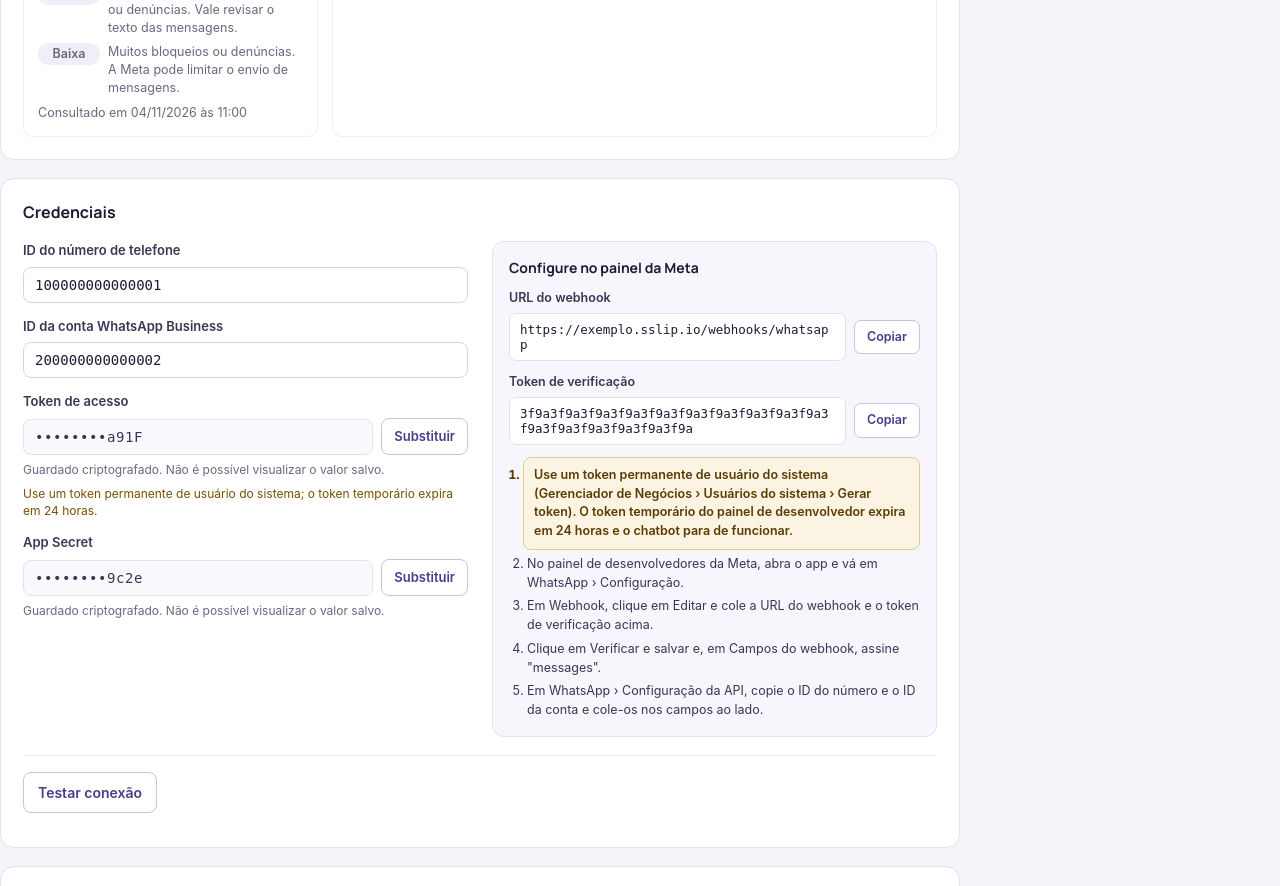
Scenario: WhatsAppPage › Substituir abre um campo de senha sem preenchimento e Cancelar volta à máscara
This screenshot has width=1280, height=886.
(page scrolled)
Expected: the heading "Credenciais" is shown, [23,201,116,223]
Click the button "Substituir" in the row of "••••••••a91F". click: click(425, 437)
box: [381,418,468,455]
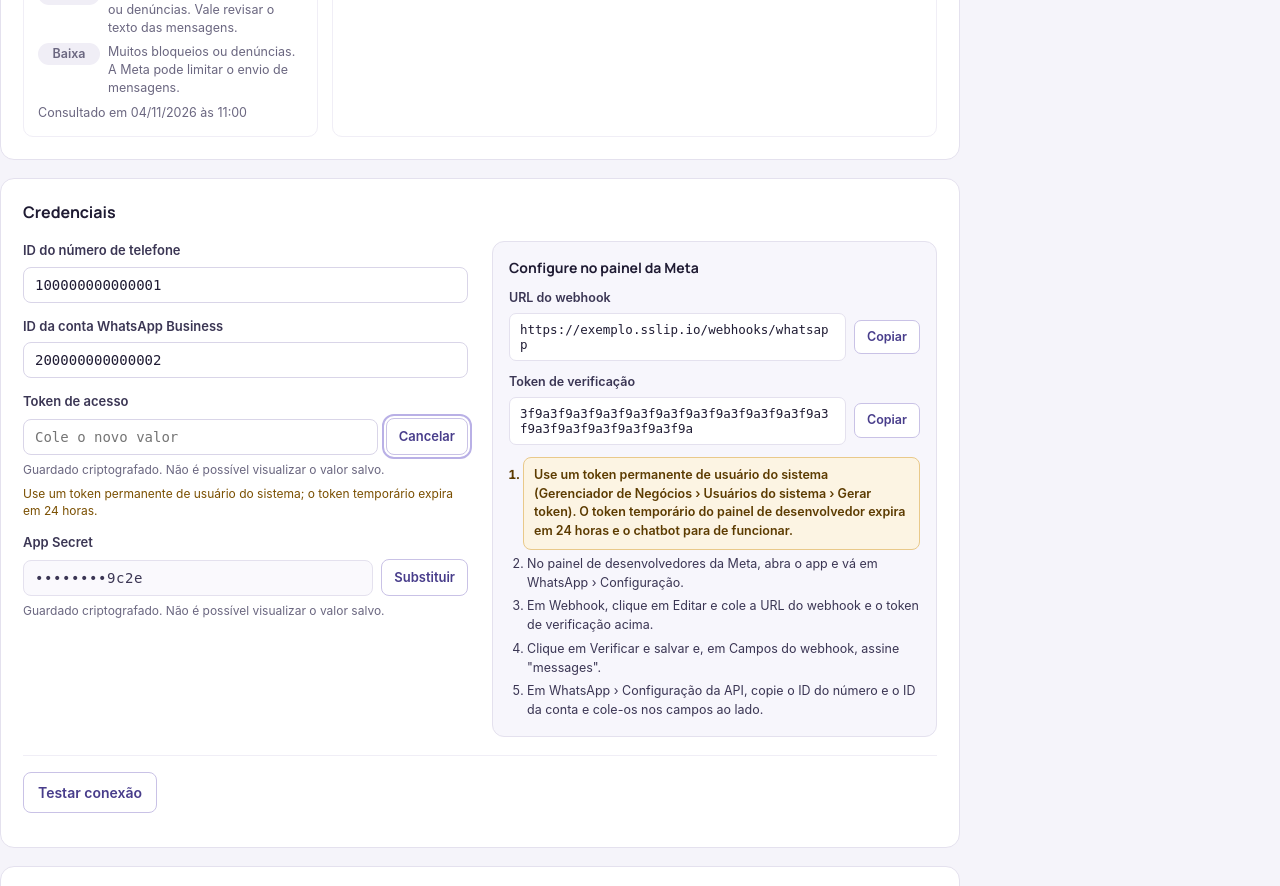
Type "EAAG-token-novo-ficticio-77Zz" into the password field labelled "Token de acesso". click: (200, 437)
box: [23,419,378,455]
(page scrolled)
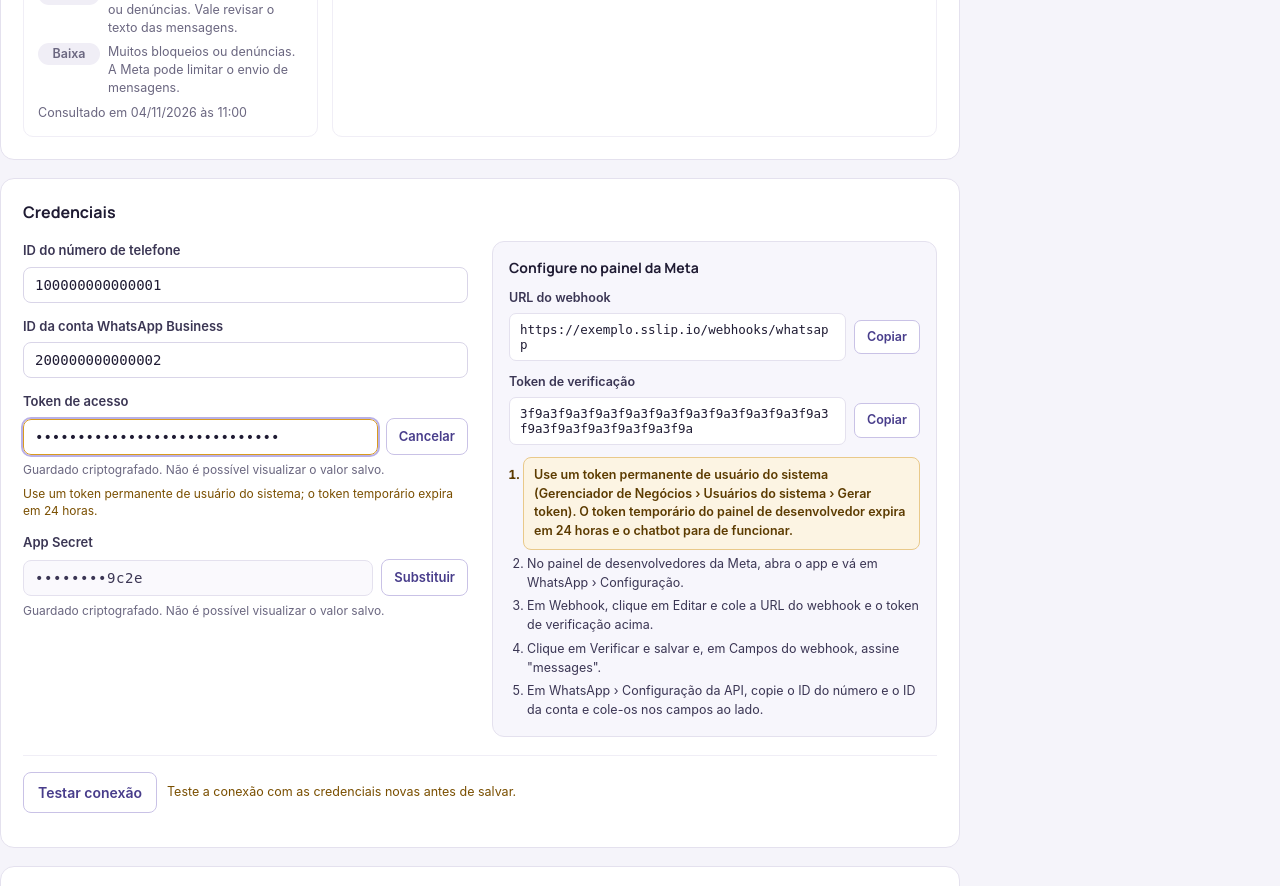
Click the button "Cancelar". click: click(427, 437)
box: [386,418,468,455]
(page scrolled)
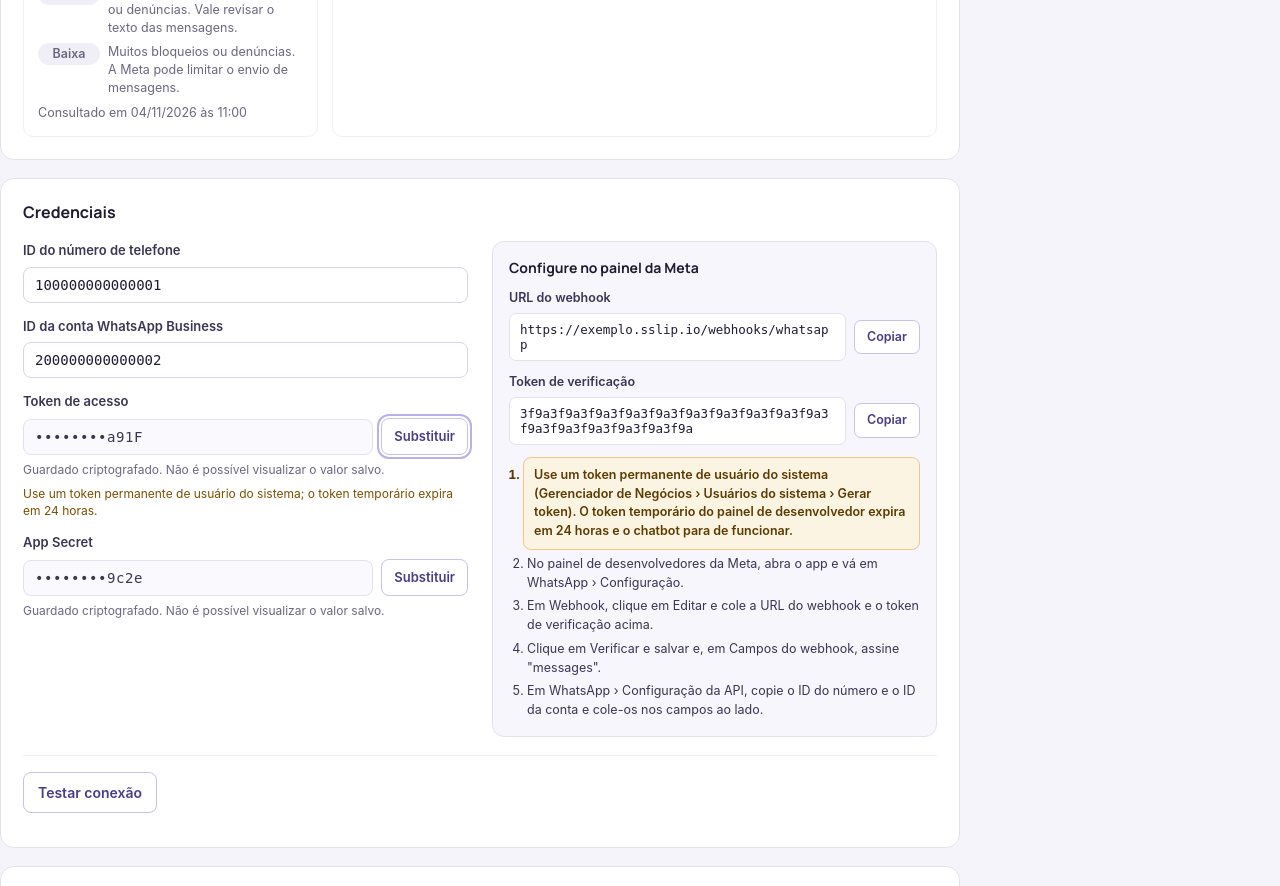
Expected: the text "••••••••a91F" is shown, [23,419,373,455]
